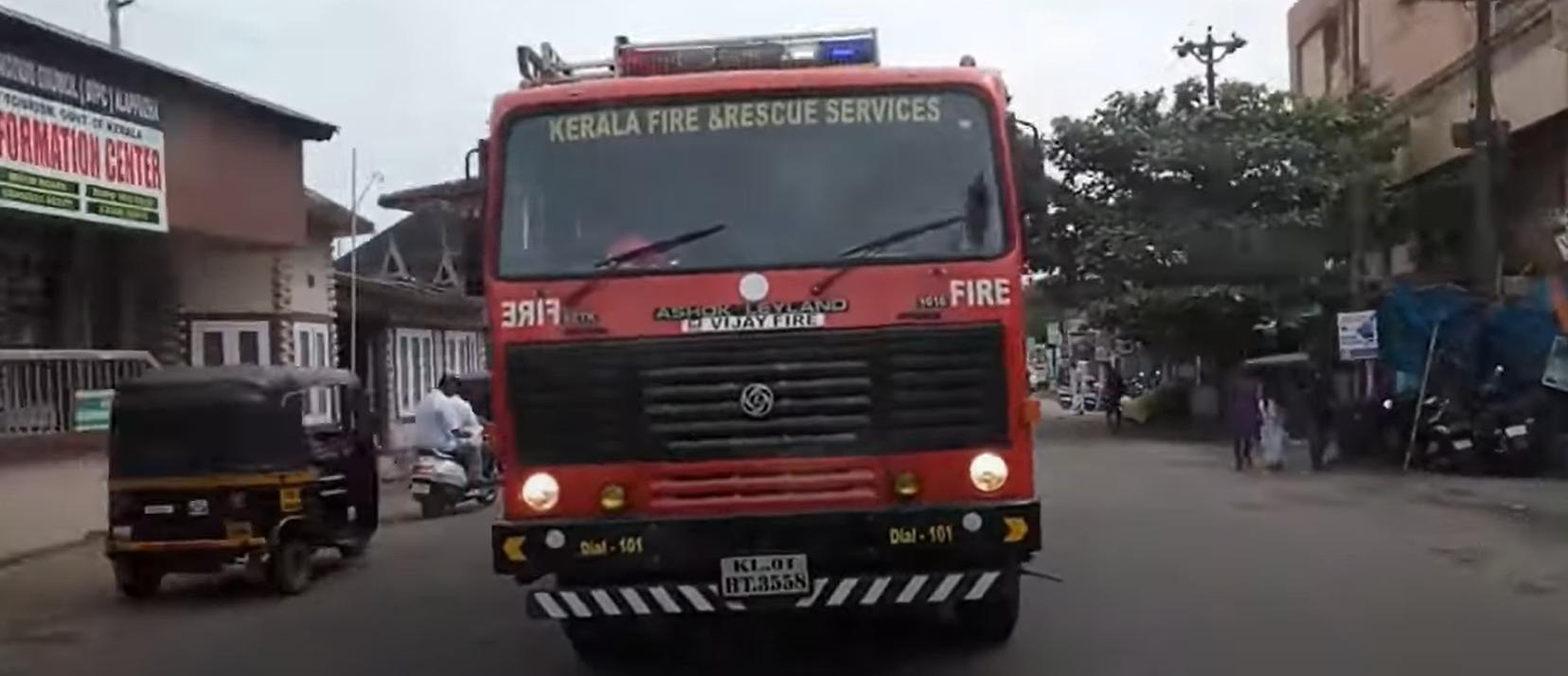Fire-engine: (472, 36, 1044, 675), (540, 96, 962, 153)
